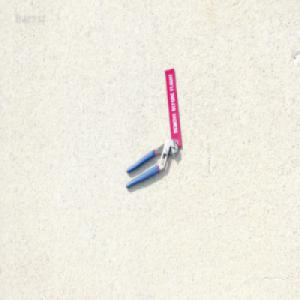Label: (163, 66, 182, 148)
Pliers: (125, 138, 178, 190)
